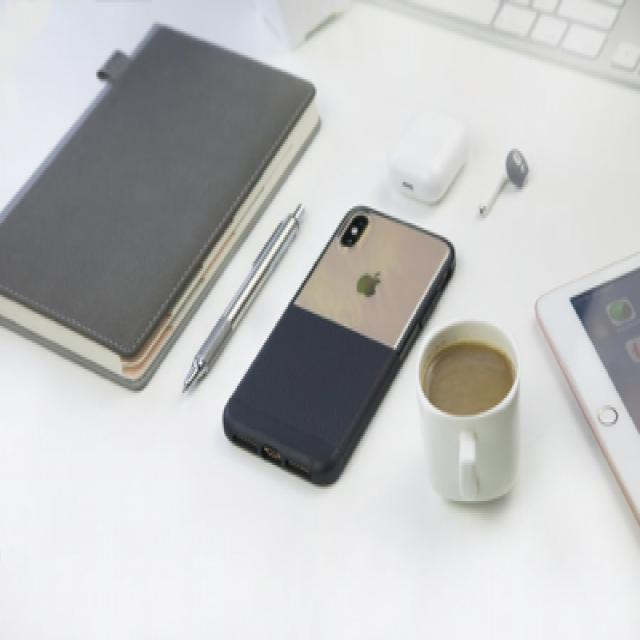cellphone: (221, 202, 456, 486), (533, 242, 638, 547)
